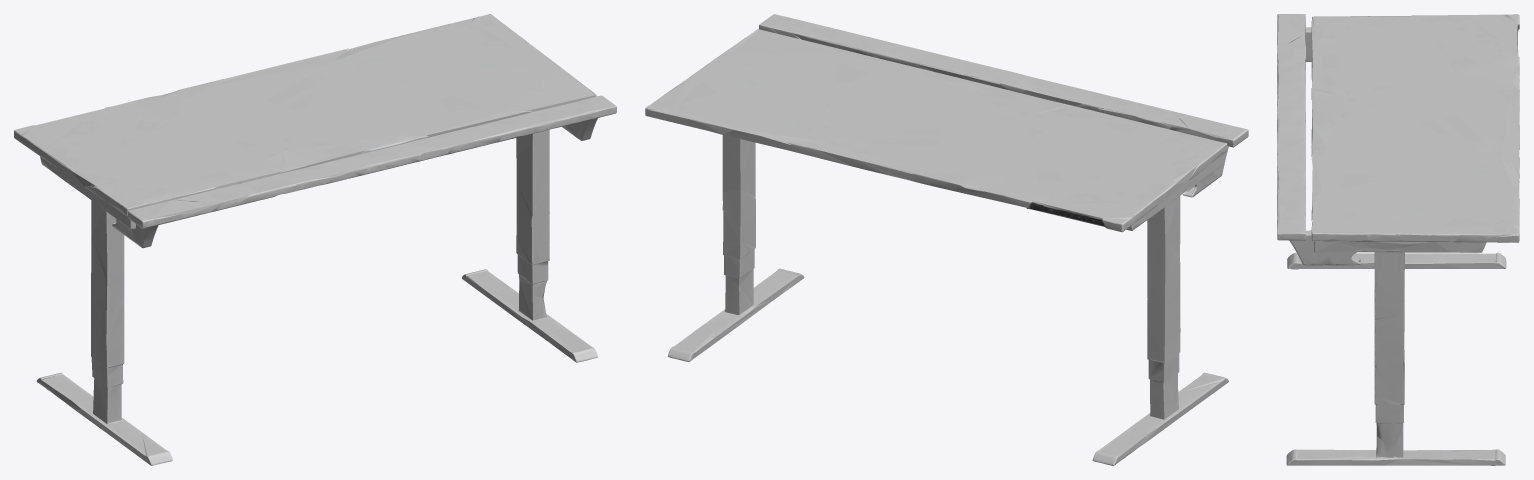
Rendered from secretlab-co-products-secretlab-magnus-pro-xl-box-1-white-ac172d.glb.
3 renders of one model, left to right at view 1: azimuth 30°, elevation 25°; view 2: azimuth 150°, elevation 25°; view 3: azimuth 270°, elevation 25°, orthographic. The views are drawn at different scales.
Visible parts, largest first — view 1: Mesh_0; view 2: Mesh_0; view 3: Mesh_0.
Boxes of the visible parts, left/top/right/bottom form: Mesh_0: left=14, top=14, right=616, bottom=465; Mesh_0: left=645, top=14, right=1248, bottom=465; Mesh_0: left=1277, top=14, right=1519, bottom=465.
Bounding box in the file's own units: 1.9 × 0.9689 × 0.8826.
1 material, 1 textured.
